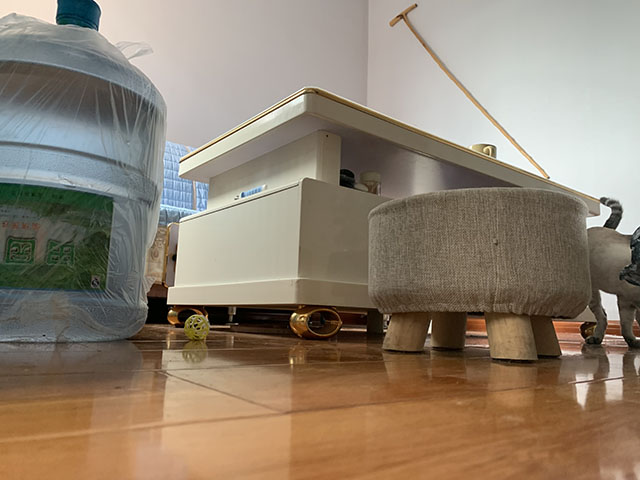stool: (365, 186, 594, 365)
table: (165, 86, 603, 343)
